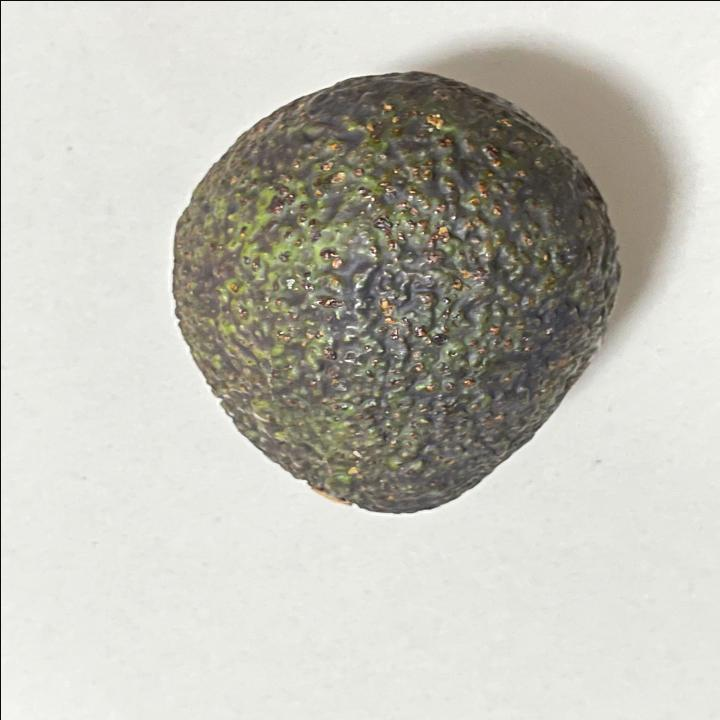Level1: (157, 62, 629, 522)
